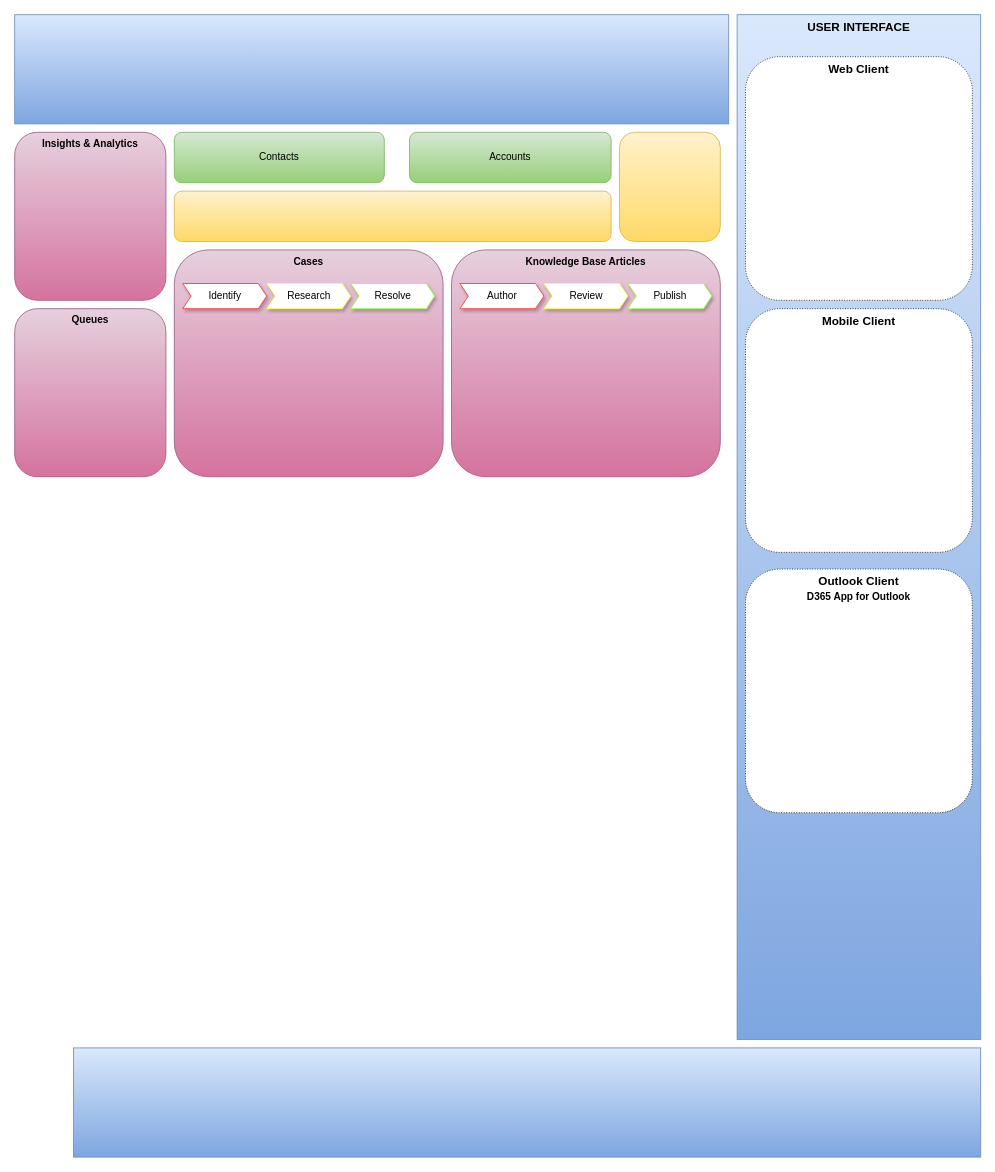
This 995x1172 diagram has some shape labels left out. The centre of each missing label's shape, as x and y in pixels:
"Activities ( Visible on Timeline)" goes at pixel 392 216.
"ADMINISTRATION" goes at pixel 527 1102.
"Documents & Collaboration" goes at pixel 669 186.
"SEARCHING & REPORTING" goes at pixel 371 69.
